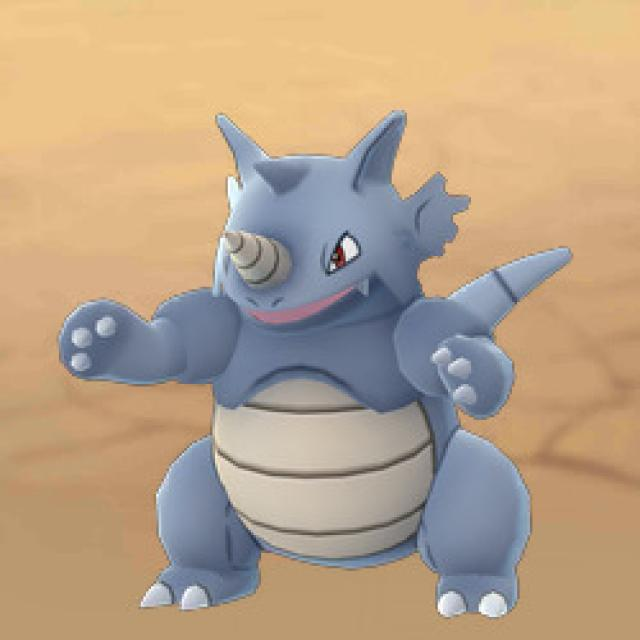Rhydon: (41, 106, 582, 620)
